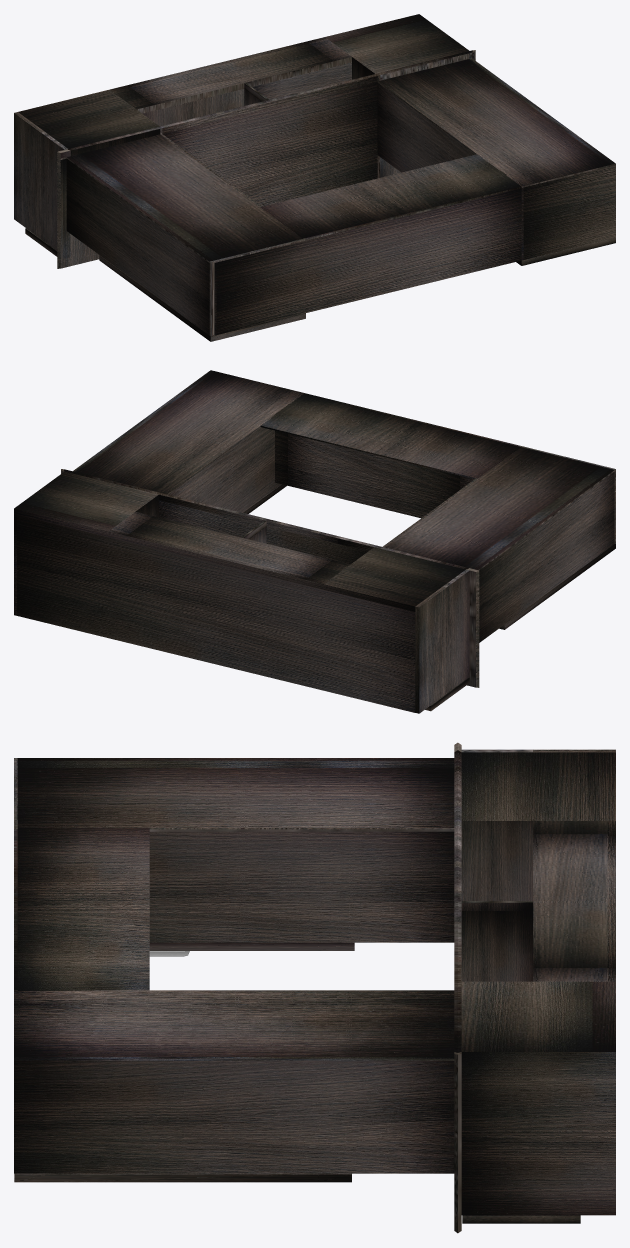
File: royaloka_tvset.obj
The picture shows the model from 3 angles, top to bottom: view 1: azimuth 30°, elevation 25°; view 2: azimuth 150°, elevation 25°; view 3: azimuth 270°, elevation 25°; orthographic projection. The views are drawn at different scales.
Parts seen in each view (by area): view 1: Cube_Cube.010; view 2: Cube_Cube.010; view 3: Cube_Cube.010.
Part boxes in pixels (x1,y1,x2,y2): Cube_Cube.010: [14, 14, 615, 341]; Cube_Cube.010: [14, 370, 615, 713]; Cube_Cube.010: [14, 742, 615, 1233].
Size of the model in its own units: 97.21 by 27.07 by 79.2.
2 materials, 2 textured.
